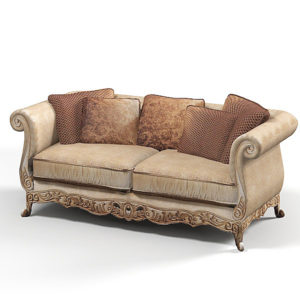Carving Chair: (19, 86, 290, 244)
